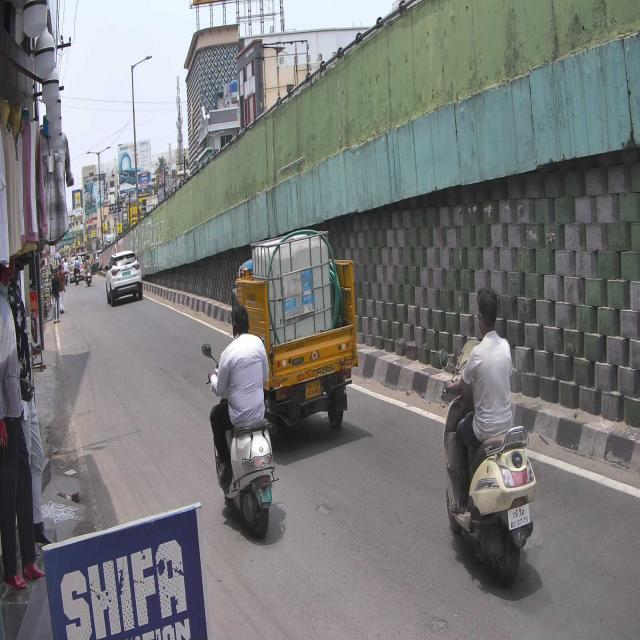single_rider: (438, 284, 536, 586), (201, 299, 280, 539)
